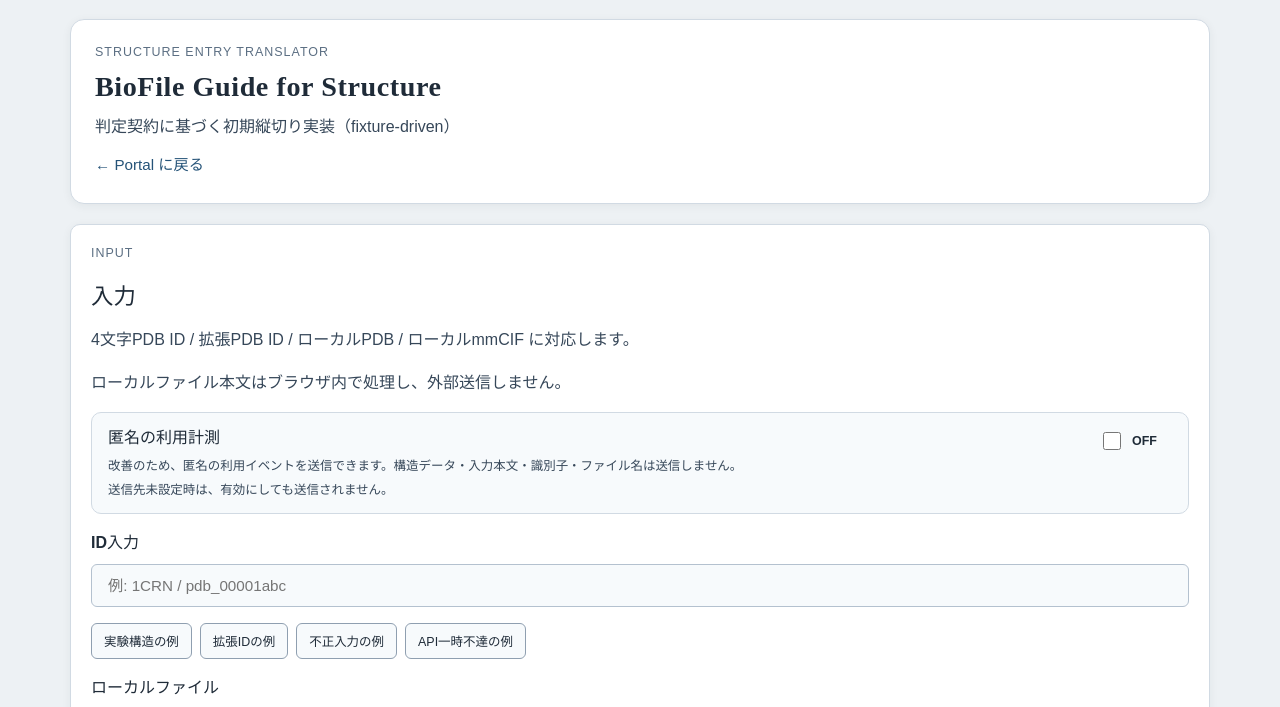
Test: App contract rendering › renders success with Card2 warning-priority main view and Card3 next-step main view
Click the button "実験構造の例" at [141, 641], box [91, 623, 192, 659]
(page scrolled)
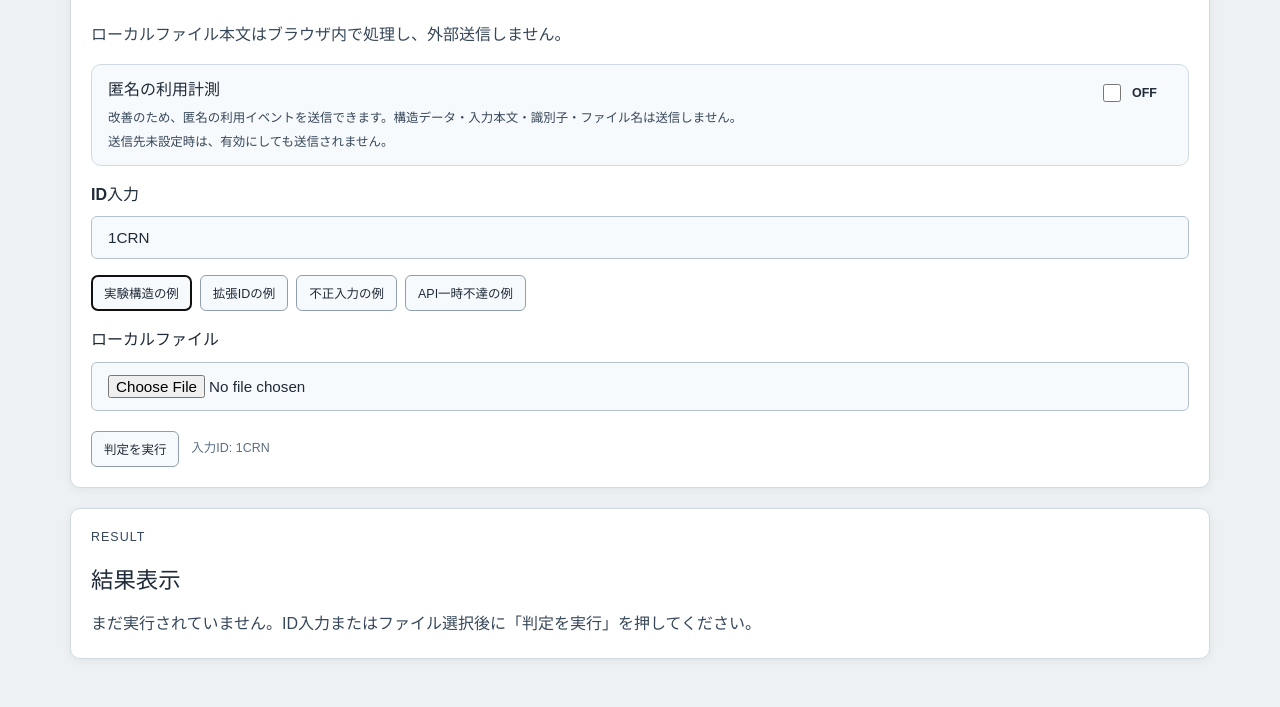
Click the button "判定を実行" at [135, 449], box [91, 431, 179, 467]
(page scrolled)
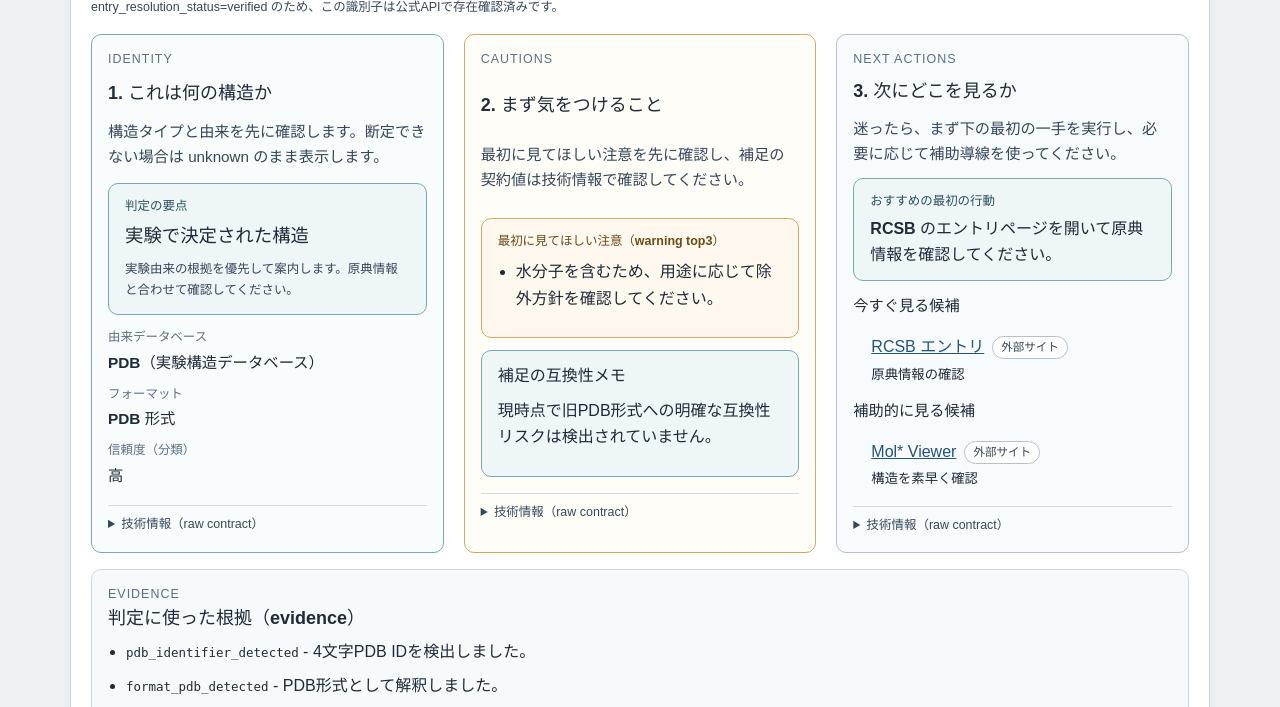
Check: the heading "1. これは何の構造か" is shown, box [108, 83, 272, 103]
Check: the heading "2. まず気をつけること" is shown, box [481, 95, 663, 115]
Check: the heading "3. 次にどこを見るか" is shown, box [853, 81, 1017, 101]
